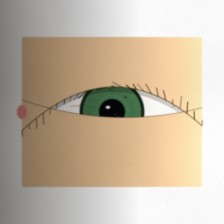pinguecula_lesion: (40, 105, 81, 138)
